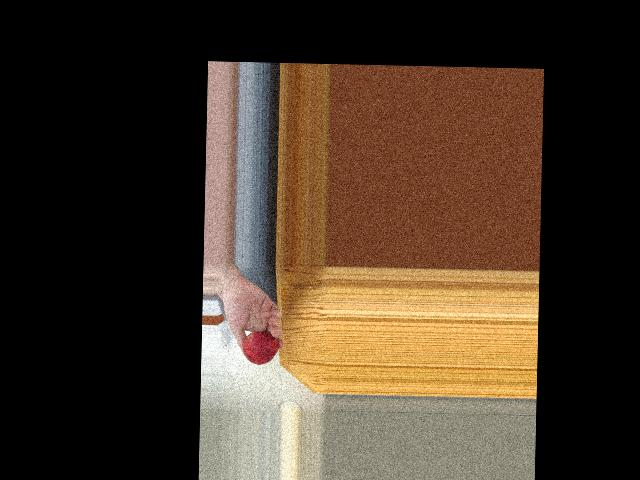apple: (242, 330, 277, 367)
